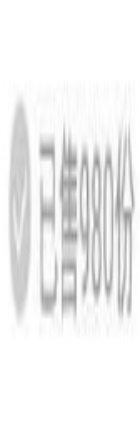CheckBox: (1, 1, 139, 439)
